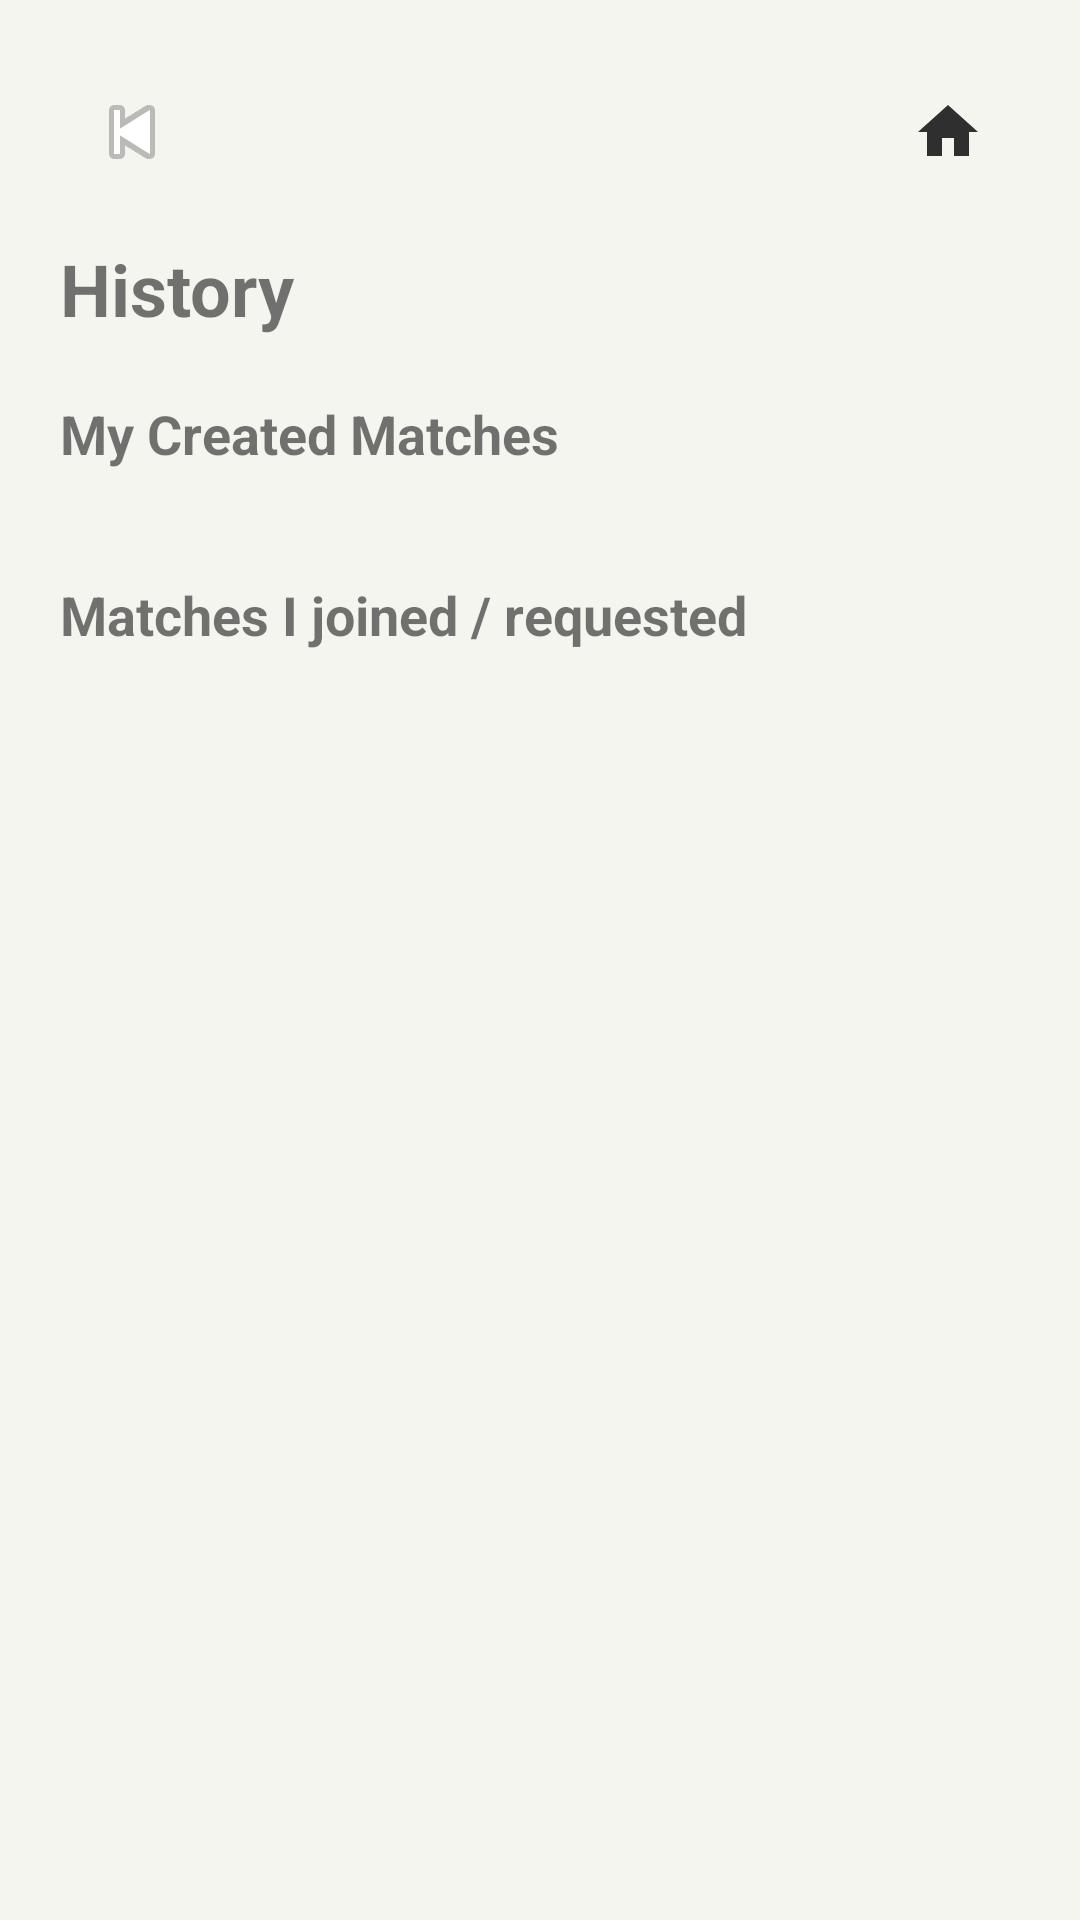

Named icons in this screenshot (1080px x 1920px) and their centers, point (x, y):
Back: point (132, 132)
Home: point (948, 130)
